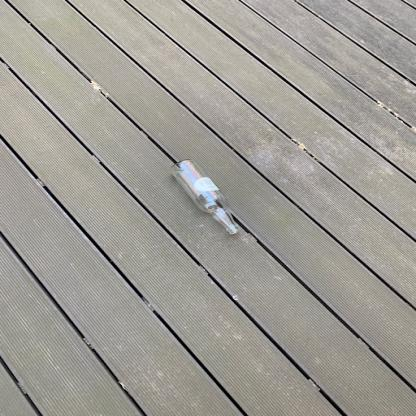trash: (169, 157, 242, 237)
